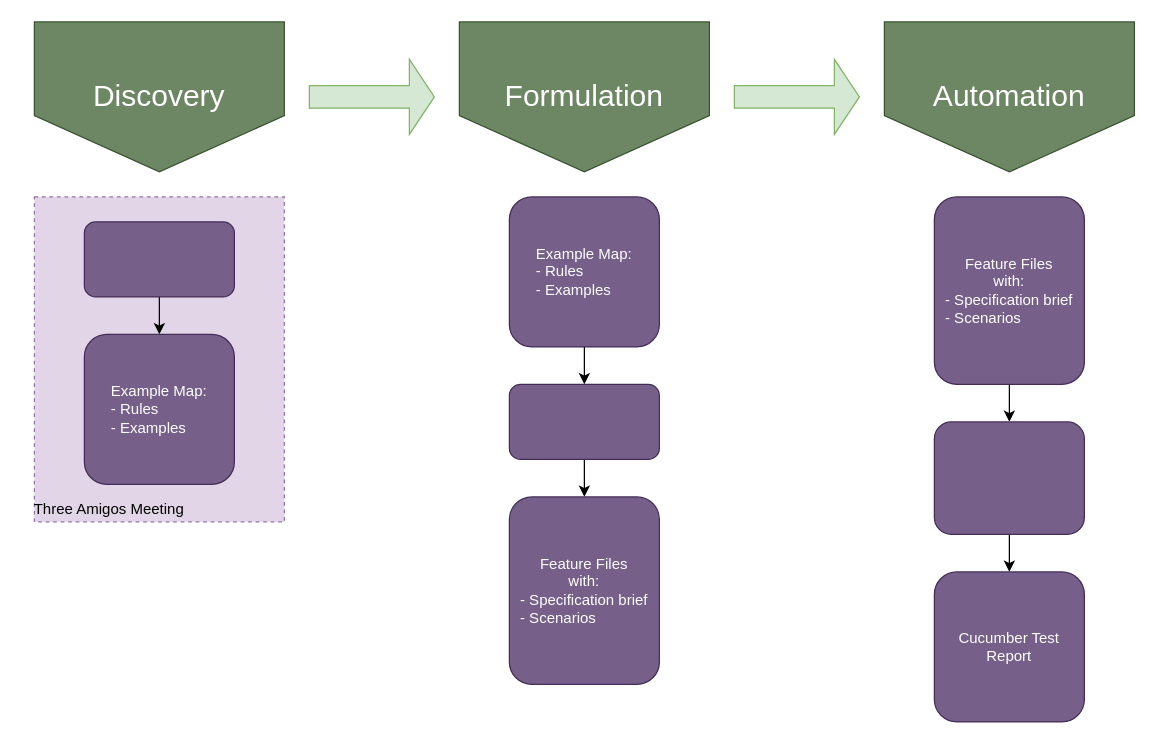
The diagram is 1156 pixels wide and 744 high, and some of its shapes have lost their labels. Here are the shapes that lost their labels. From the top down, the centre of each, then its label:
At pixel 158 259: "User Story".
At pixel 583 421: "Scenarios".
At pixel 1008 477: "Glue Code with step definitions".
